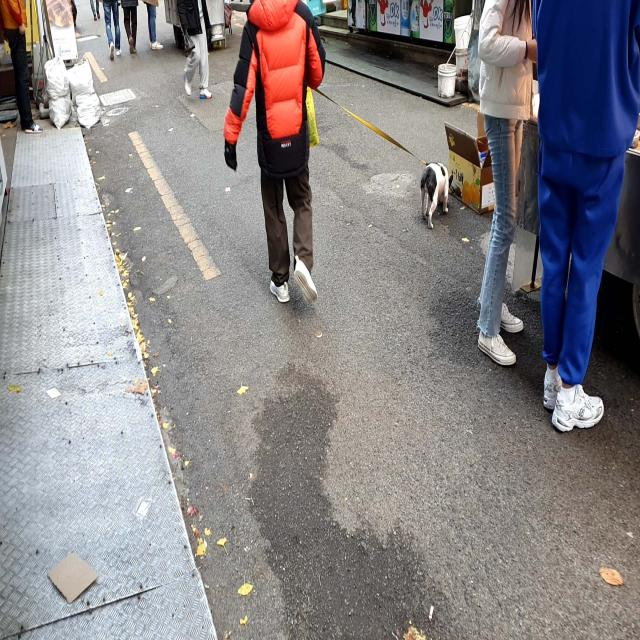Leashed_Dog: (289, 79, 454, 230)
